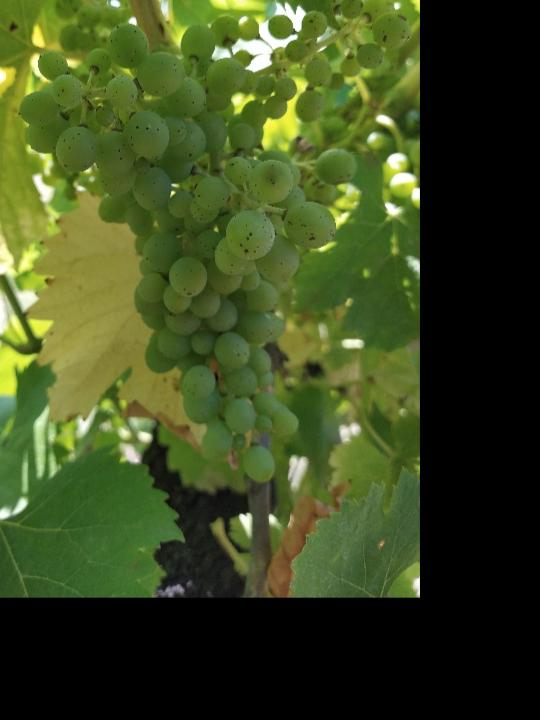grape: (17, 0, 412, 488)
